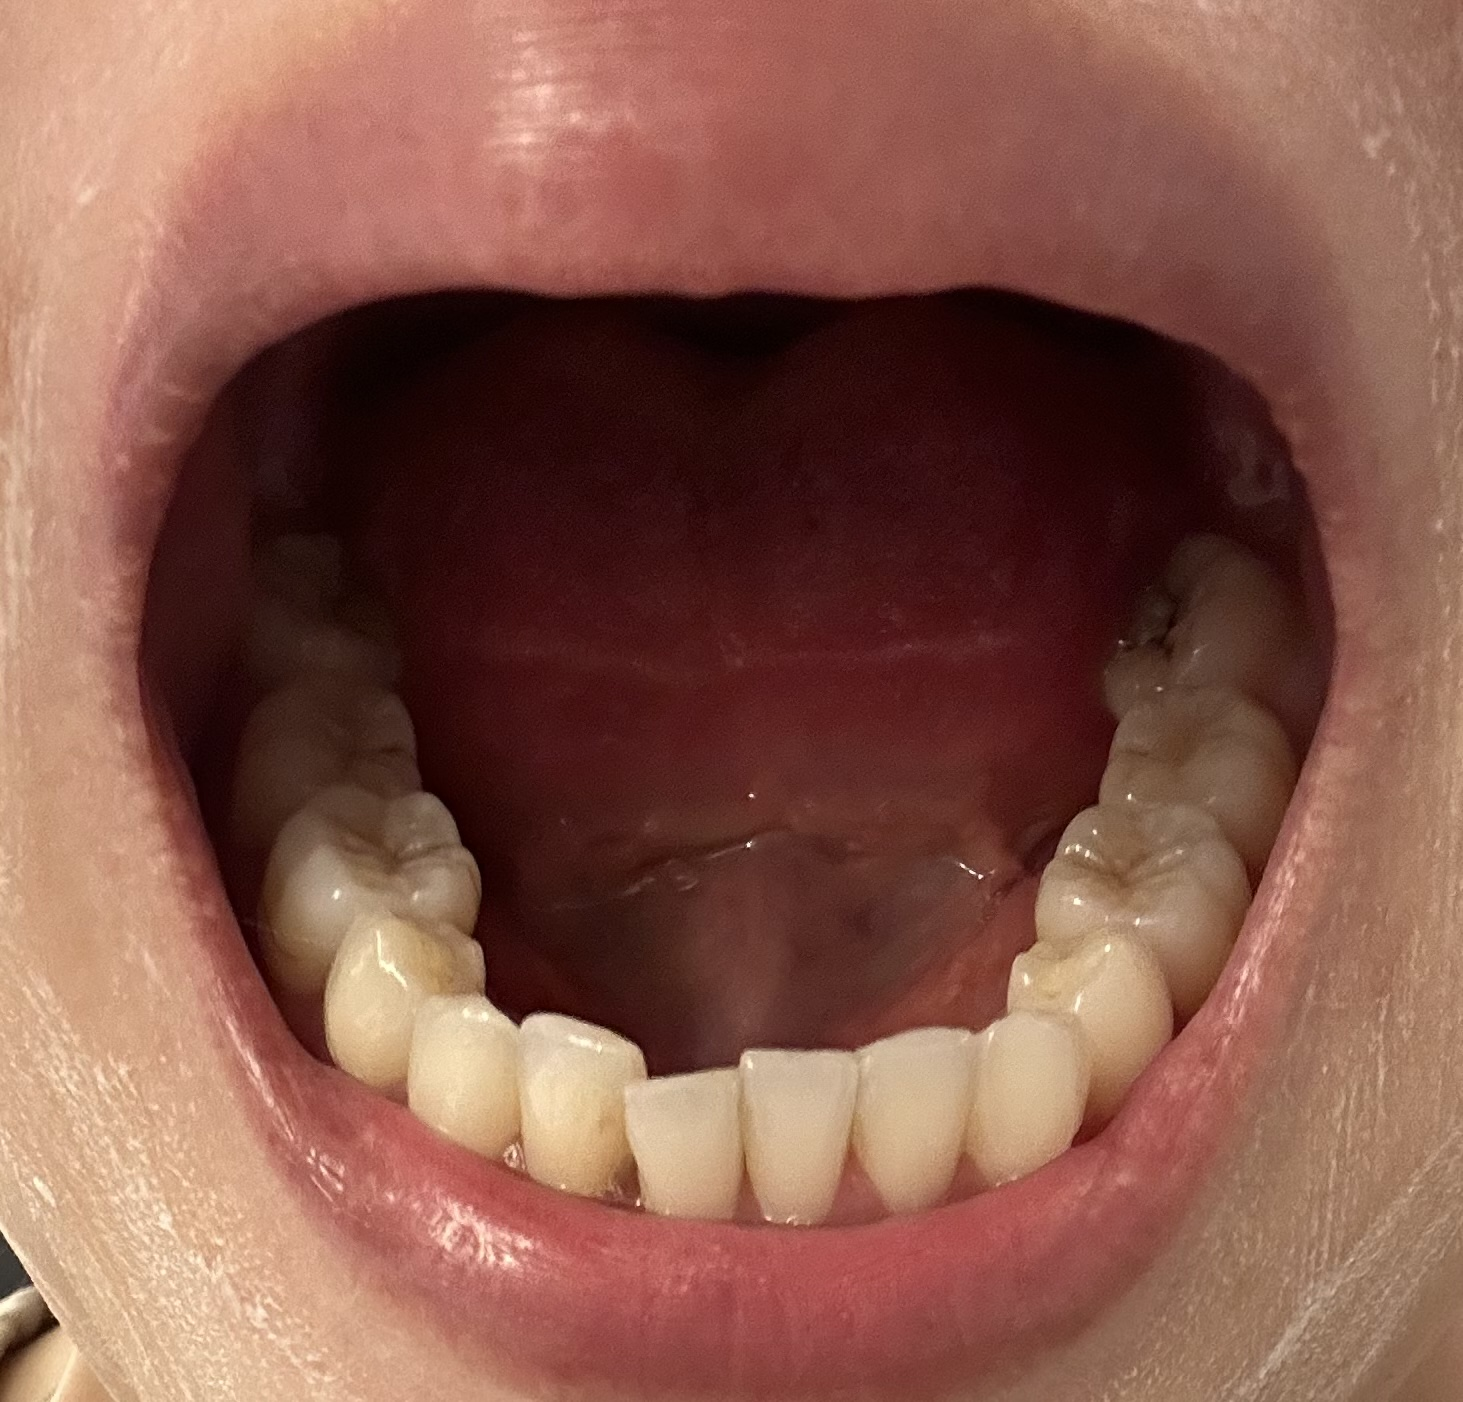teeth: (263, 785, 479, 993), (1042, 804, 1255, 988), (325, 921, 490, 1090), (1012, 925, 1169, 1075), (853, 1035, 976, 1206), (513, 1020, 627, 1189), (748, 1056, 857, 1224), (974, 1020, 1088, 1181), (631, 1074, 742, 1222), (418, 997, 511, 1147)
